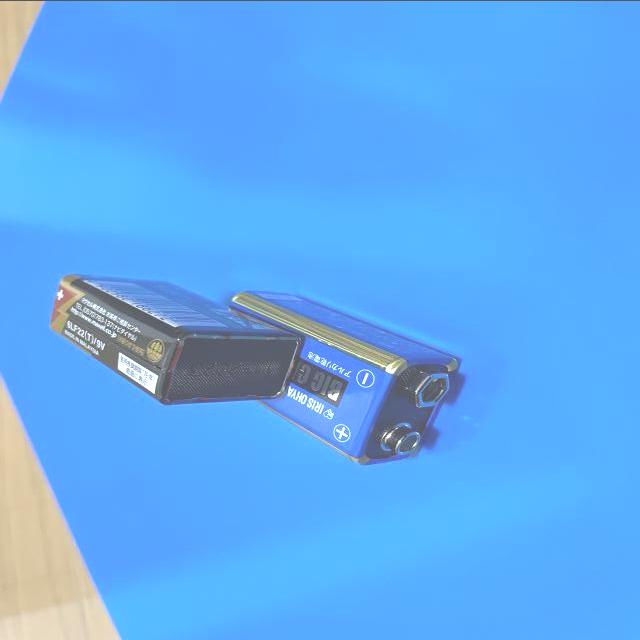9V: (230, 289, 466, 466), (48, 271, 303, 407)
